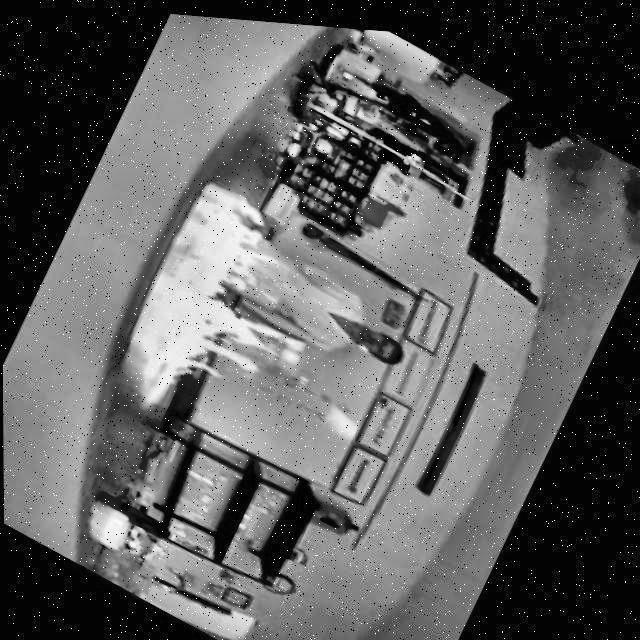Fire: (134, 171, 332, 454)
